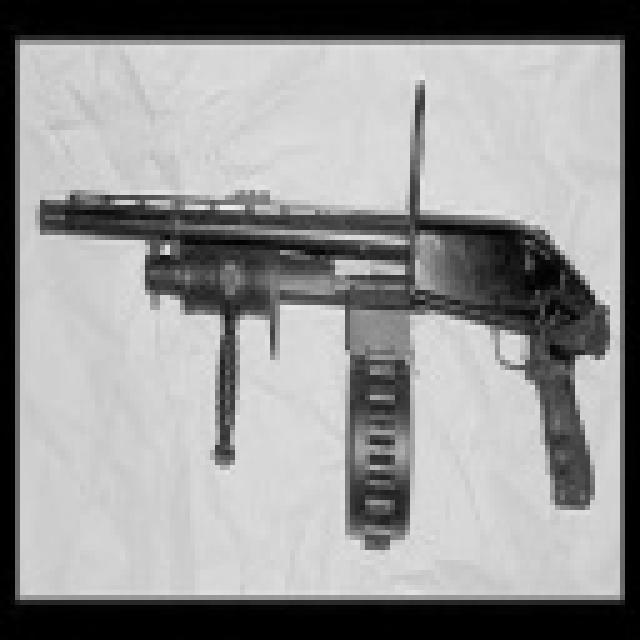Rifle: (1, 42, 640, 569)
